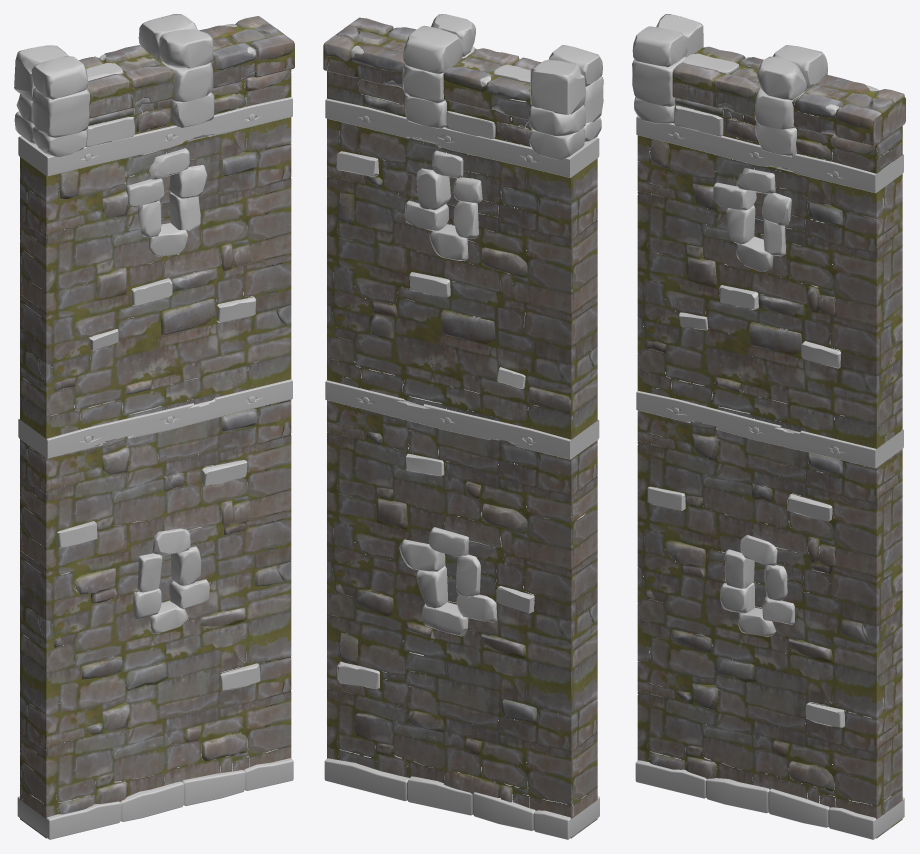
3 renders of one model, left to right at view 1: azimuth 30°, elevation 25°; view 2: azimuth 150°, elevation 25°; view 3: azimuth 330°, elevation 25°, orthographic. The views are drawn at different scales.
Parts seen in each view (by area): view 1: SM_Castle_Wall_4x12_01_v1_LOD0; view 2: SM_Castle_Wall_4x12_01_v1_LOD0; view 3: SM_Castle_Wall_4x12_01_v1_LOD0.
Part boxes in pixels (x1,y1,x2,y2): SM_Castle_Wall_4x12_01_v1_LOD0: (14,14,294,839); SM_Castle_Wall_4x12_01_v1_LOD0: (323,14,603,839); SM_Castle_Wall_4x12_01_v1_LOD0: (632,14,905,839).
Bounding box in the file's own units: 4.04 × 11.96 × 1.12.
